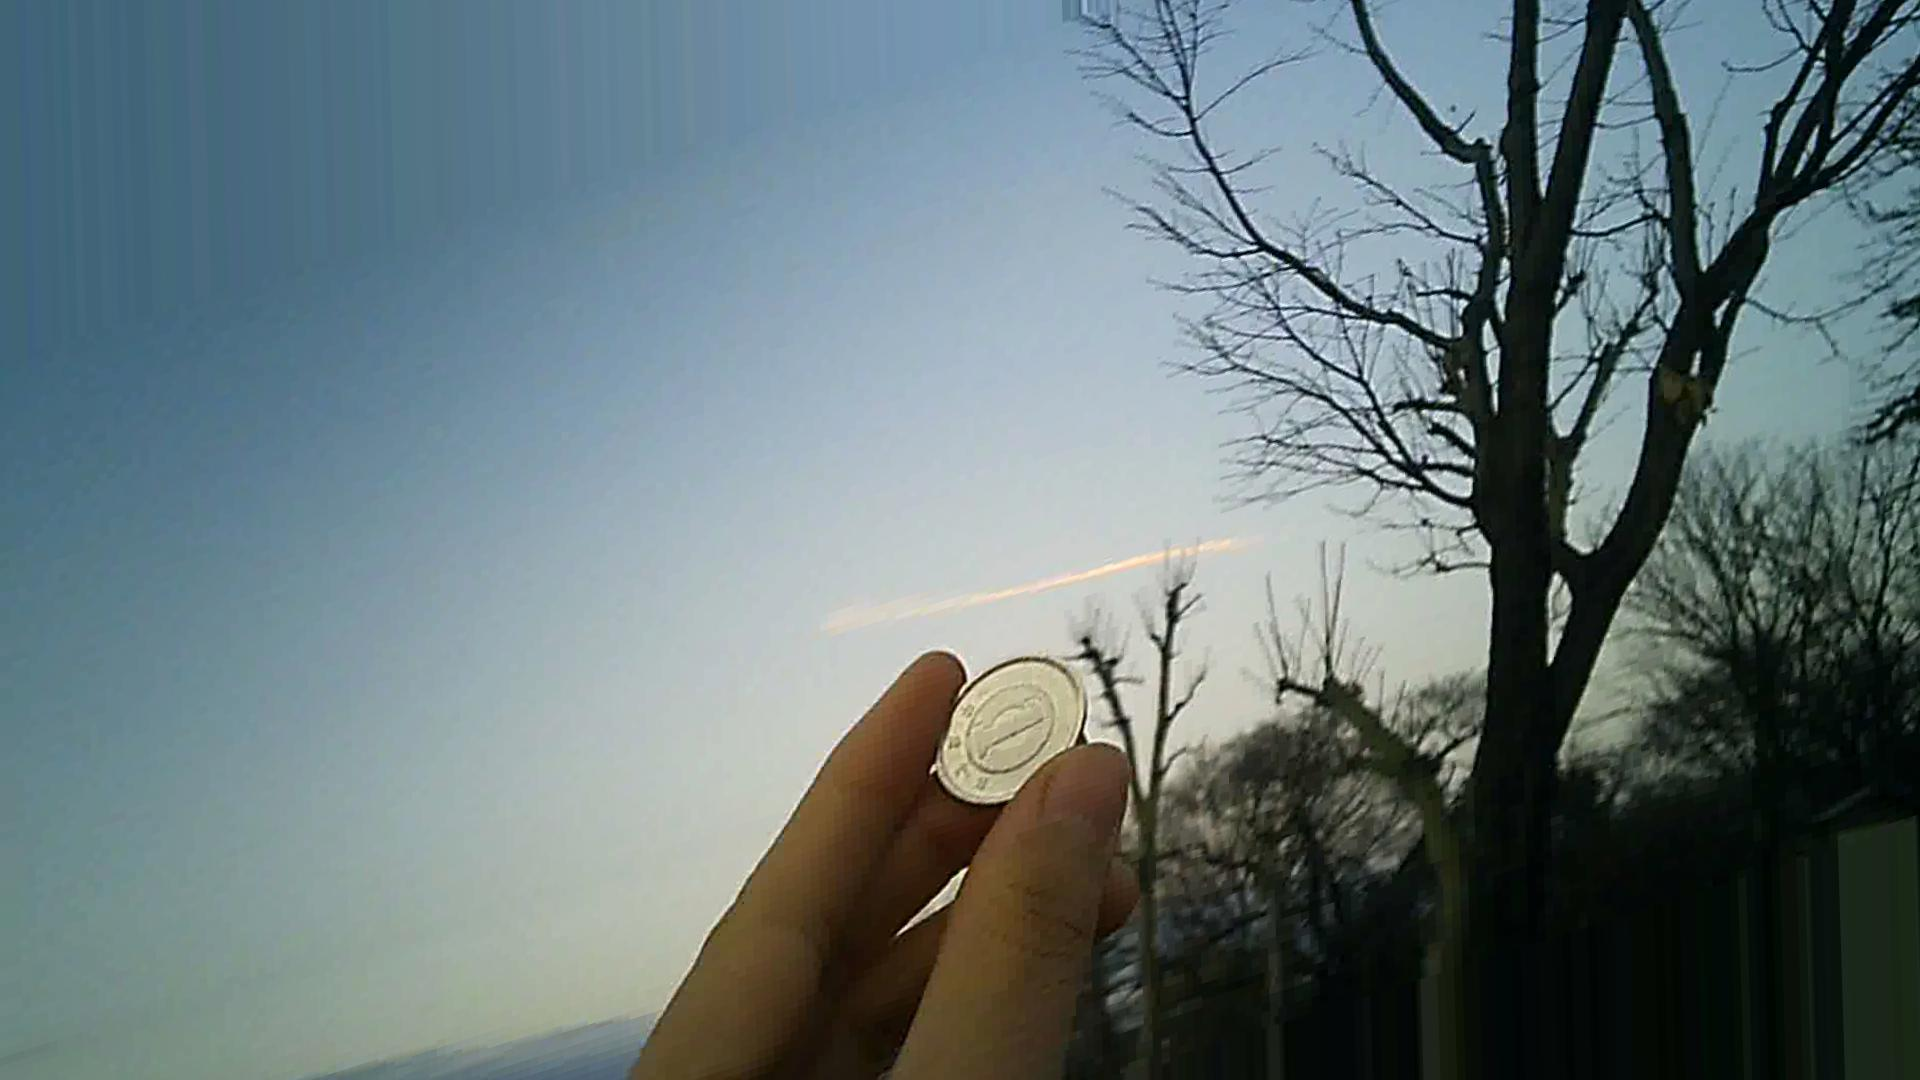1 Yen: (932, 644, 1097, 803)
